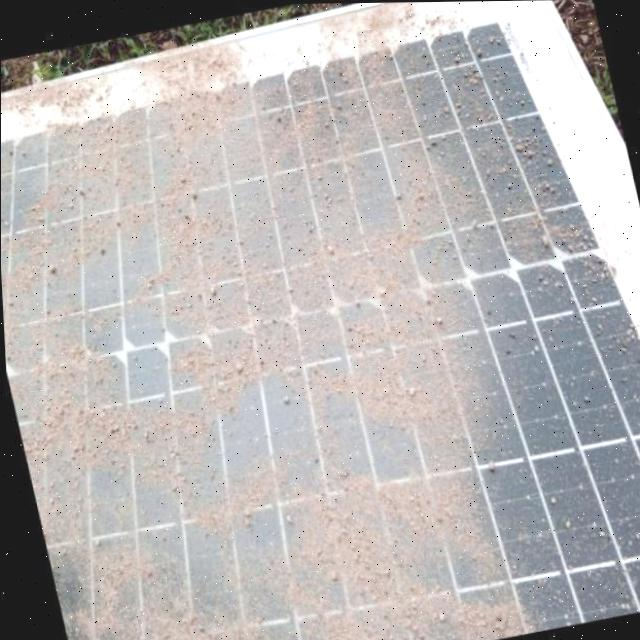Surface Contaminant: (0, 23, 635, 640)
